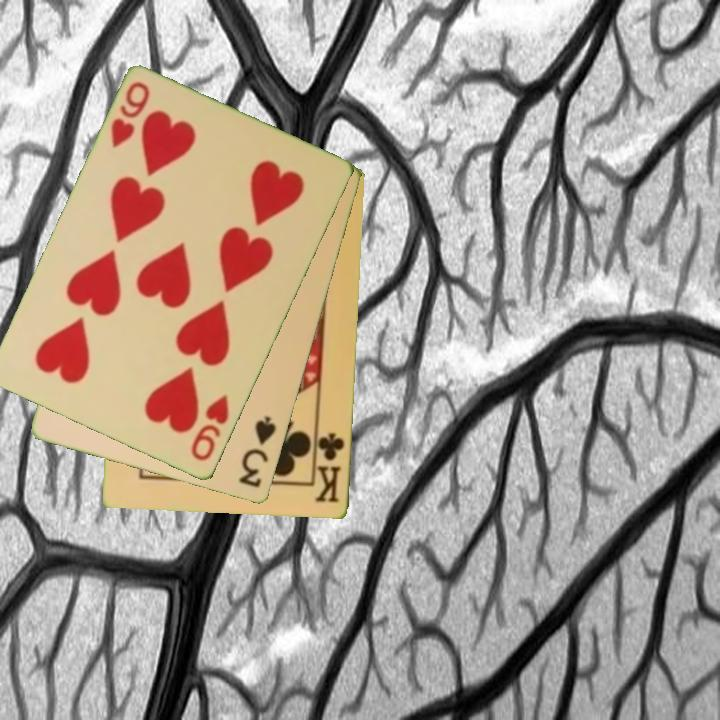3s: (236, 413, 280, 491)
9h: (107, 78, 154, 152), (187, 392, 232, 465)
Kc: (312, 424, 348, 506)
